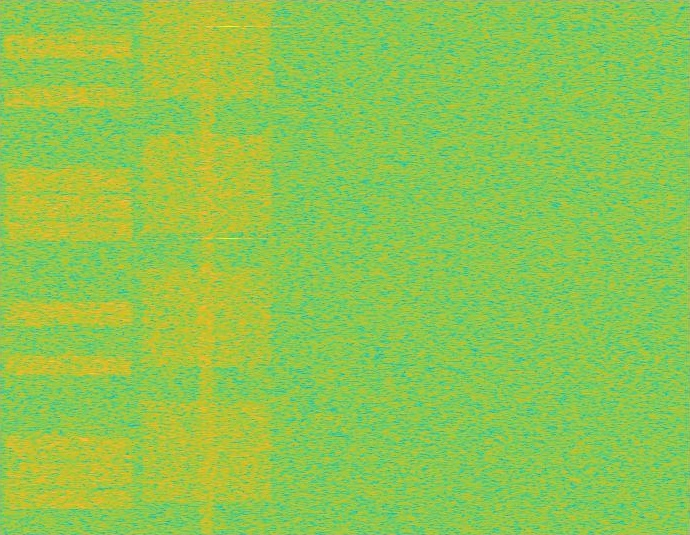5G: (138, 0, 276, 534)
DSSS: (198, 0, 216, 534)
LTE: (0, 0, 138, 534)
Radar: (222, 0, 236, 534)
